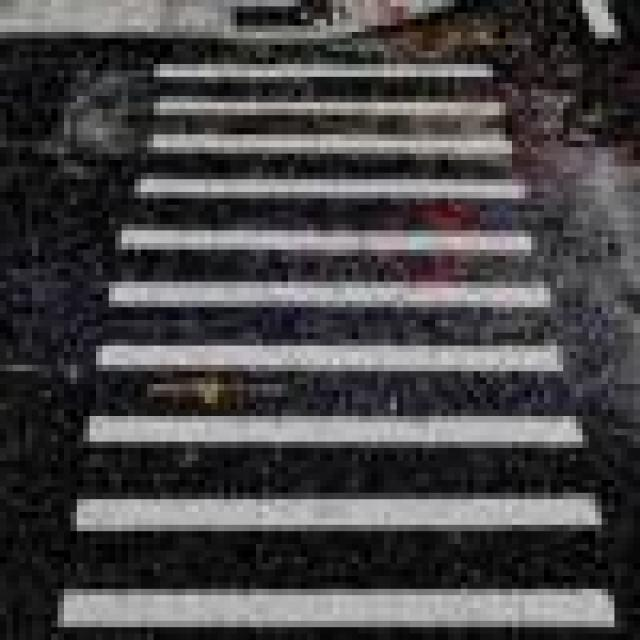crosswalk: (53, 52, 617, 640)
